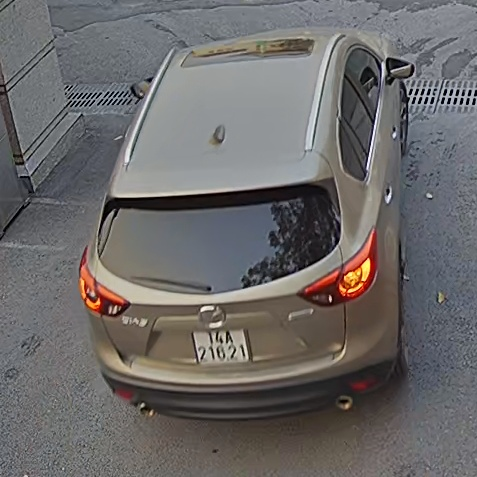vehicle plate: (189, 320, 251, 366)
